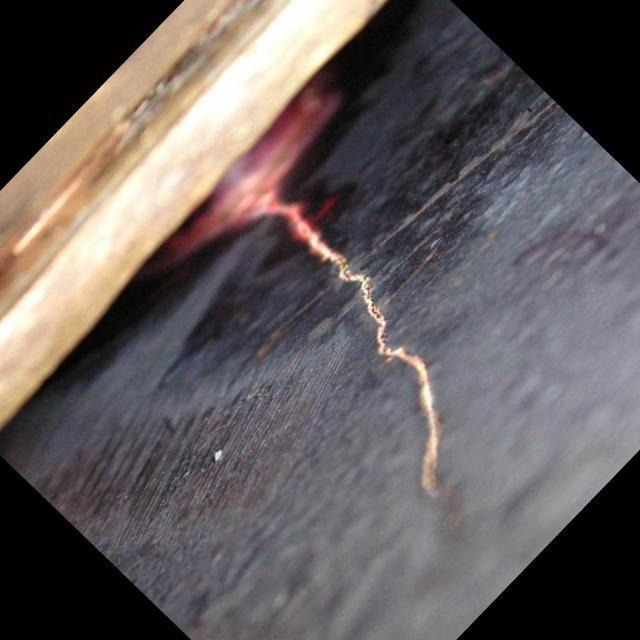defect: (255, 192, 479, 539)
